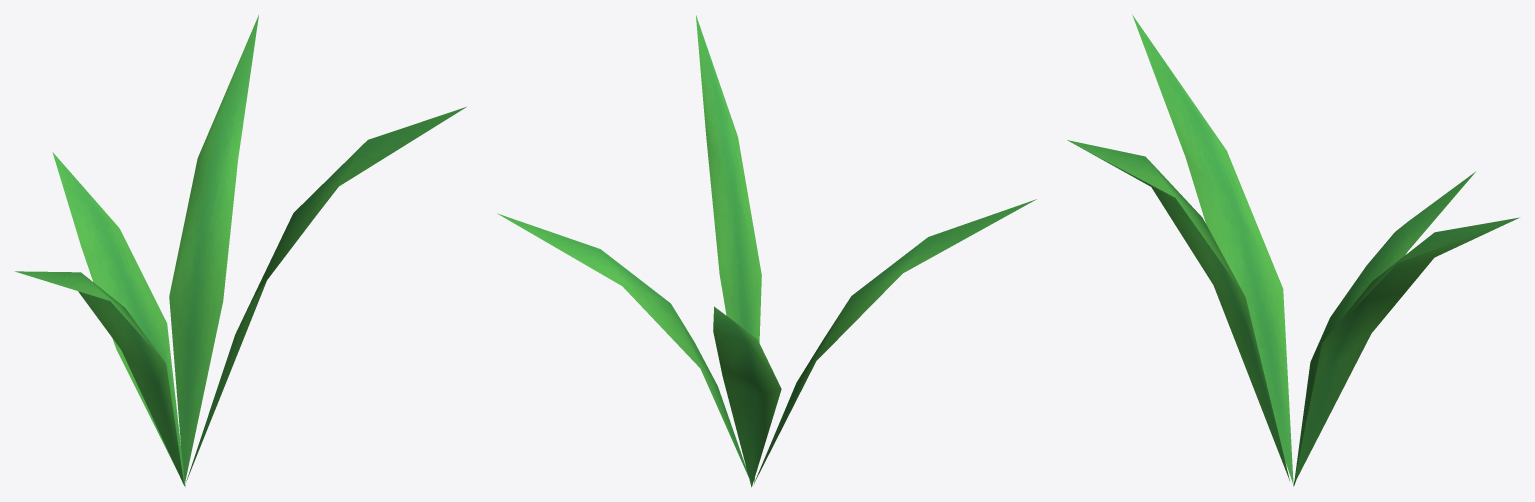
The model's file is Grass_Clump_3.glb.
3 views of the same model, side by side, from view 1: azimuth 30°, elevation 25°; view 2: azimuth 150°, elevation 25°; view 3: azimuth 270°, elevation 25° (orthographic). The views are drawn at different scales.
Visible parts, largest first — view 1: object6.077_object6.085, object6.076_object6.084, object6.075_object6.082, object6.078_object6.086; view 2: object6.078_object6.086, object6.076_object6.084, object6.077_object6.085, object6.075_object6.082; view 3: object6.075_object6.082, object6.077_object6.085, object6.078_object6.086, object6.076_object6.084.
Boxes of the visible parts, bbox=[...] form: object6.077_object6.085: bbox=[169, 15, 258, 485]; object6.076_object6.084: bbox=[52, 152, 185, 487]; object6.075_object6.082: bbox=[15, 271, 184, 485]; object6.078_object6.086: bbox=[186, 107, 466, 482]; object6.078_object6.086: bbox=[696, 15, 761, 483]; object6.076_object6.084: bbox=[713, 306, 781, 487]; object6.077_object6.085: bbox=[497, 213, 752, 485]; object6.075_object6.082: bbox=[753, 199, 1036, 484]; object6.075_object6.082: bbox=[1132, 14, 1293, 484]; object6.077_object6.085: bbox=[1293, 217, 1519, 485]; object6.078_object6.086: bbox=[1067, 140, 1289, 480]; object6.076_object6.084: bbox=[1293, 171, 1475, 486].
Size of the model in its own units: 0.5522 by 0.5122 by 0.4836.
Materials: 1 (1 with a texture image).
